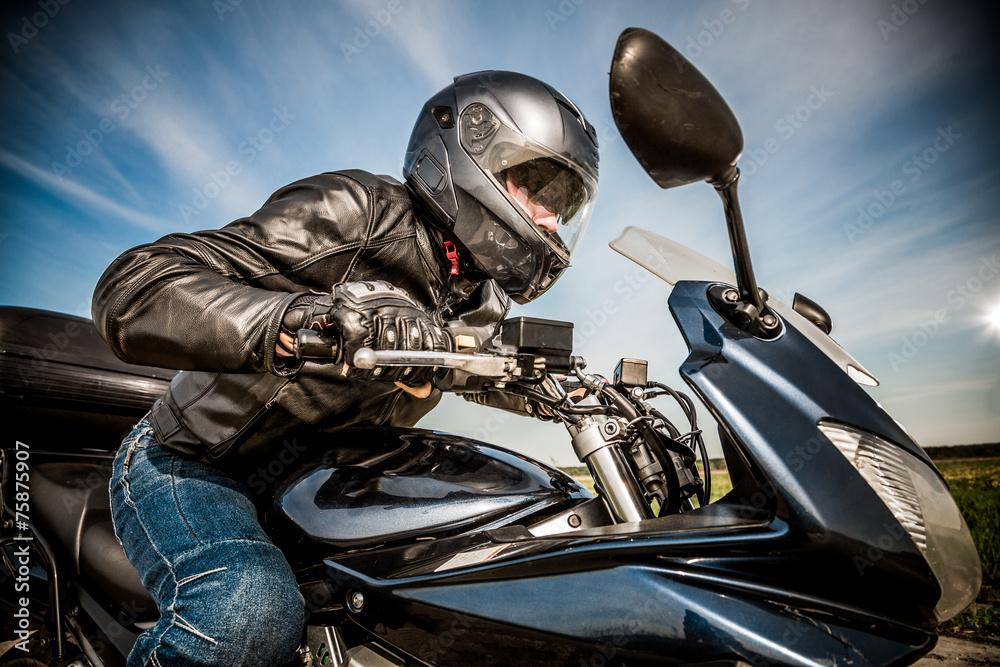helmet: (401, 67, 601, 307)
